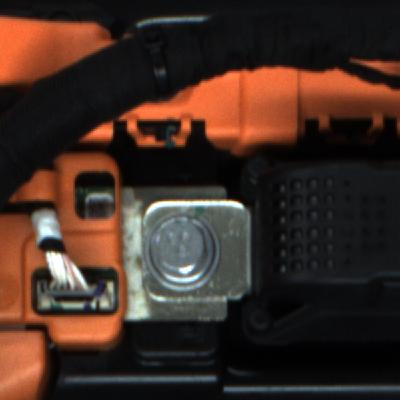nut_b: (141, 211, 242, 303)
